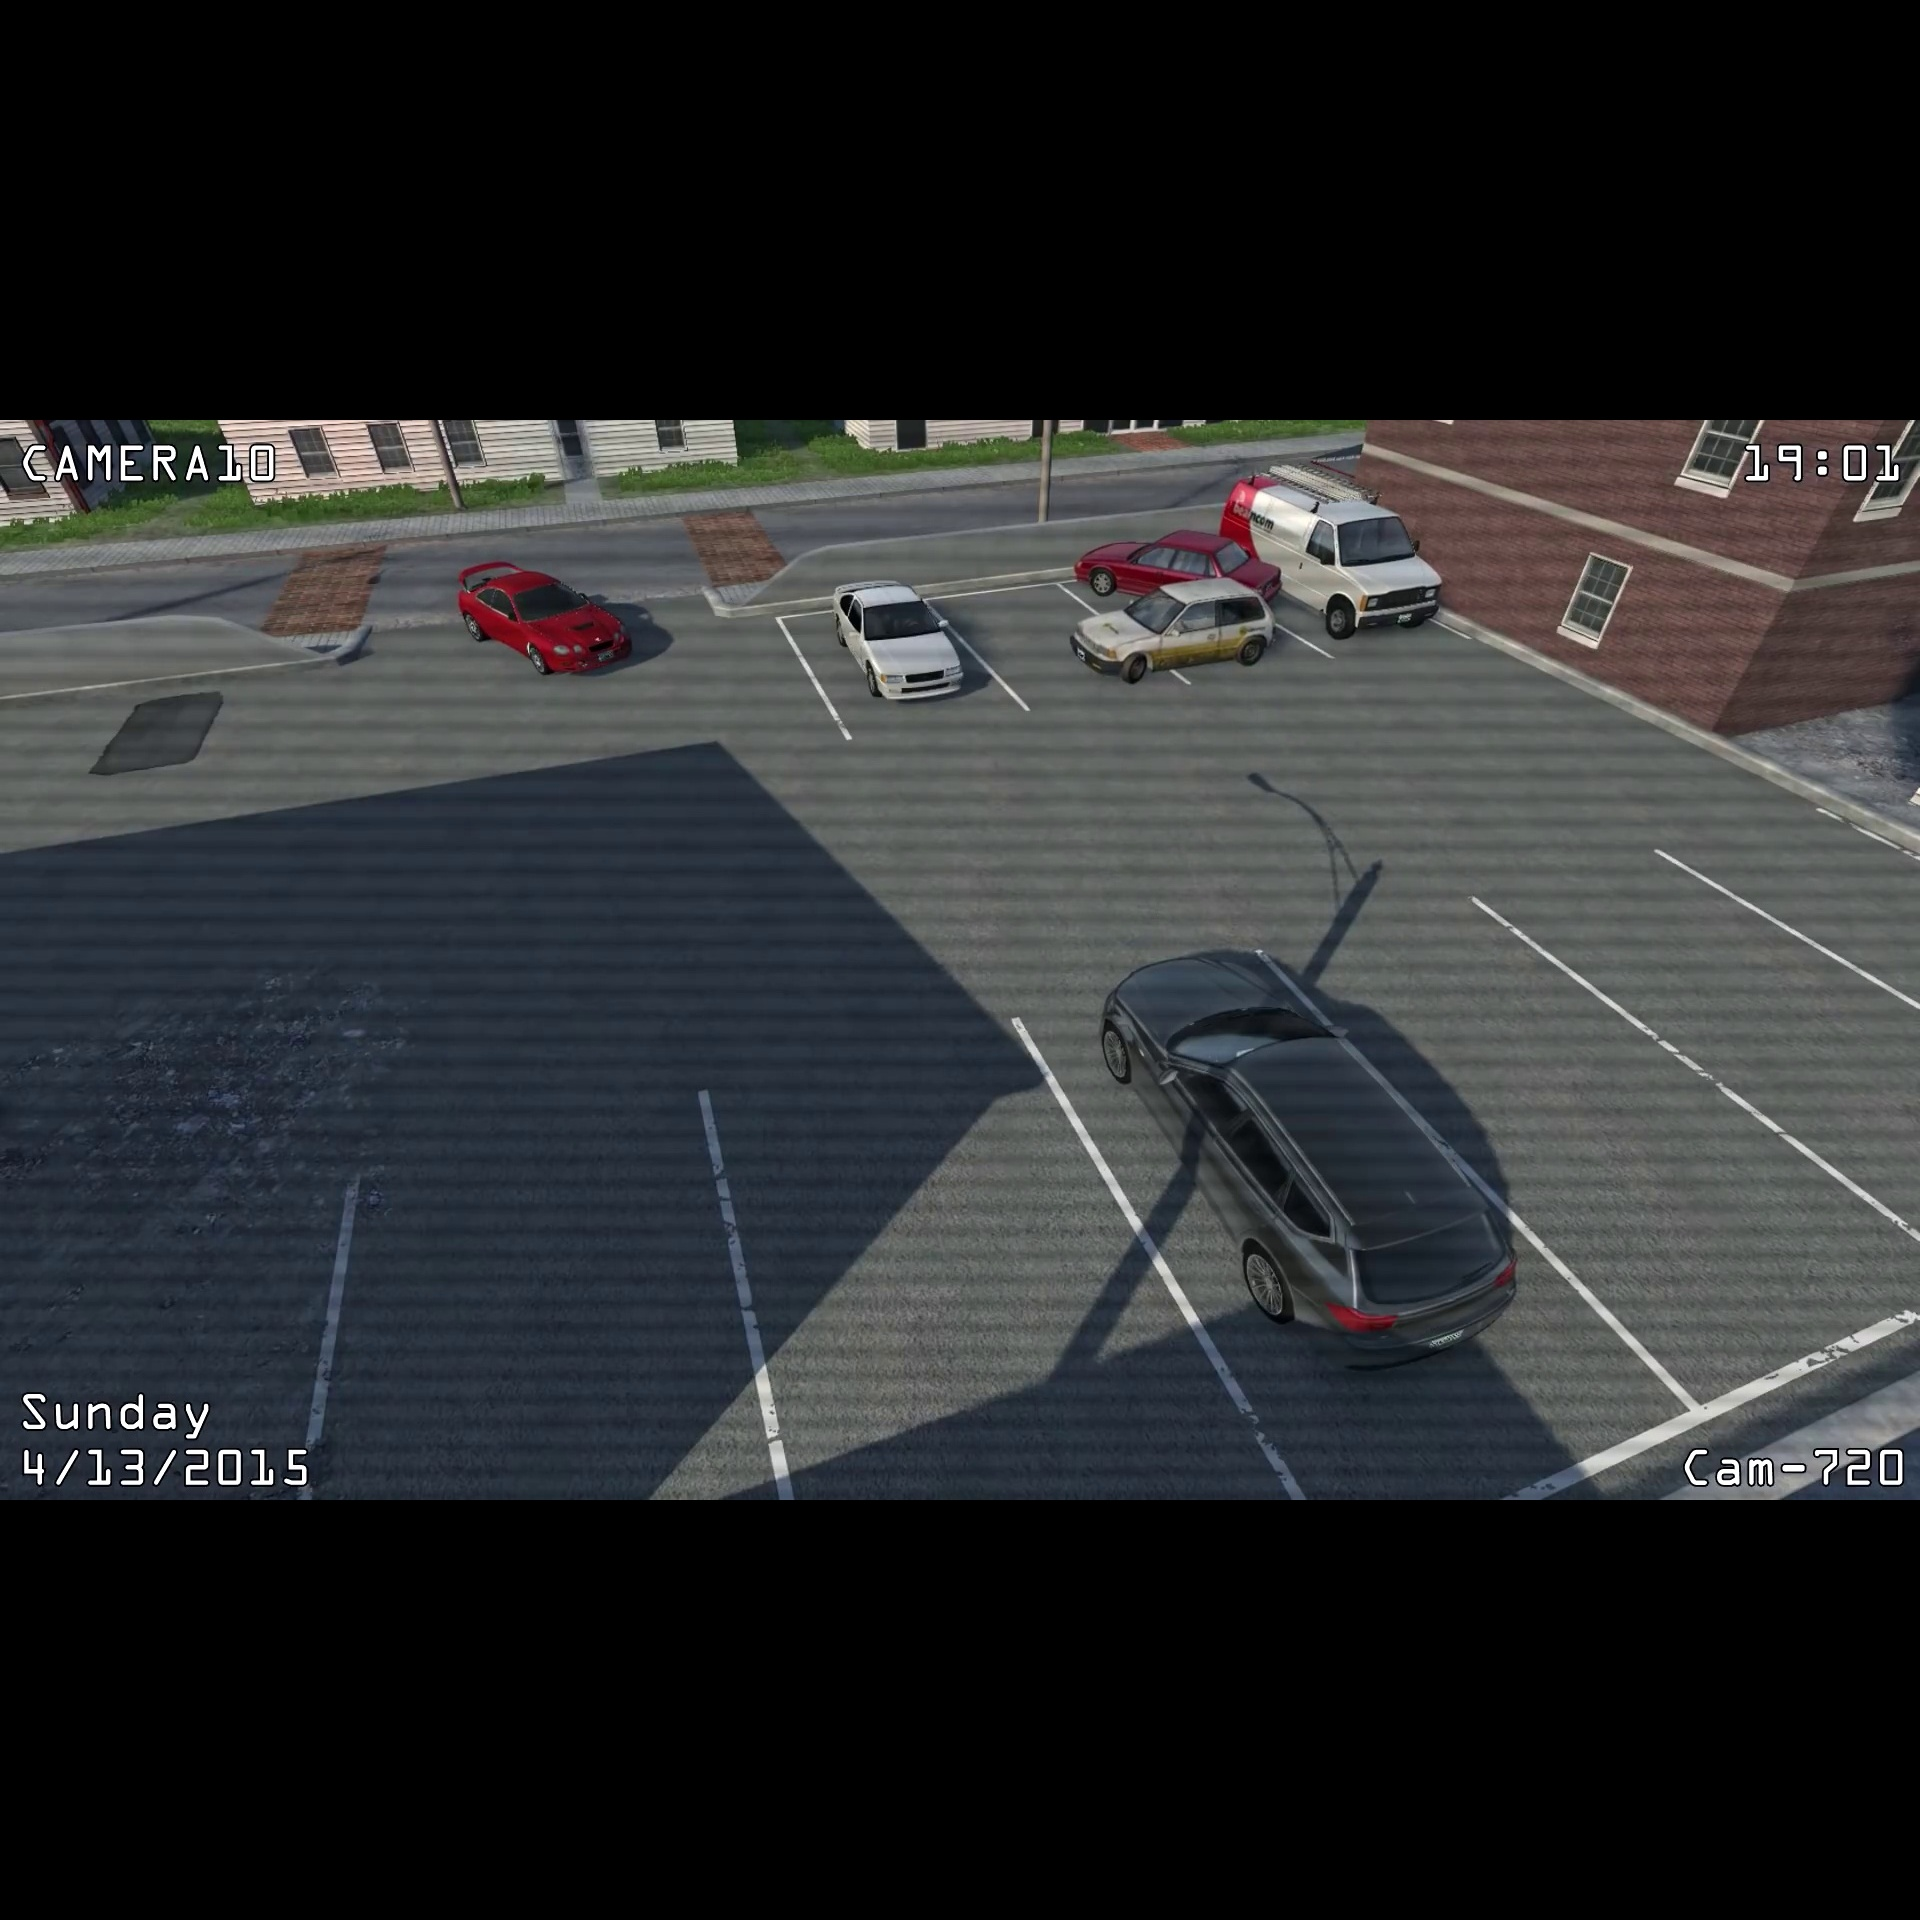vehicle: (1088, 935, 1523, 1384), (1217, 461, 1445, 642), (1064, 566, 1276, 680), (452, 554, 636, 682), (823, 573, 969, 710), (1073, 524, 1282, 607)
